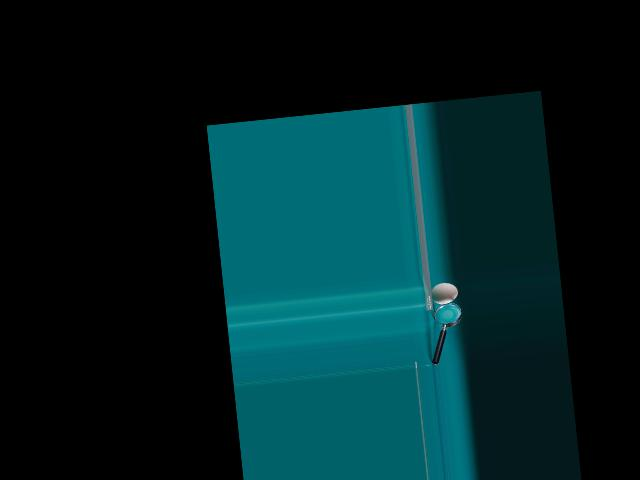egg: (429, 281, 458, 305)
